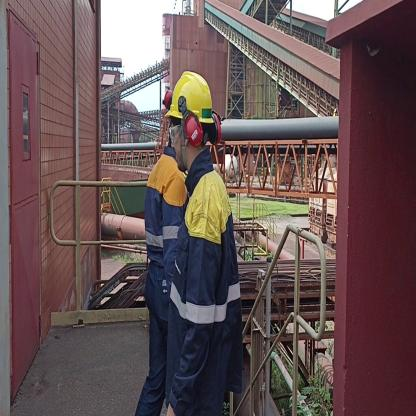C_eletrica: (172, 195, 242, 405)
Capacete: (168, 69, 212, 121)
Operacional: (146, 157, 180, 268)
